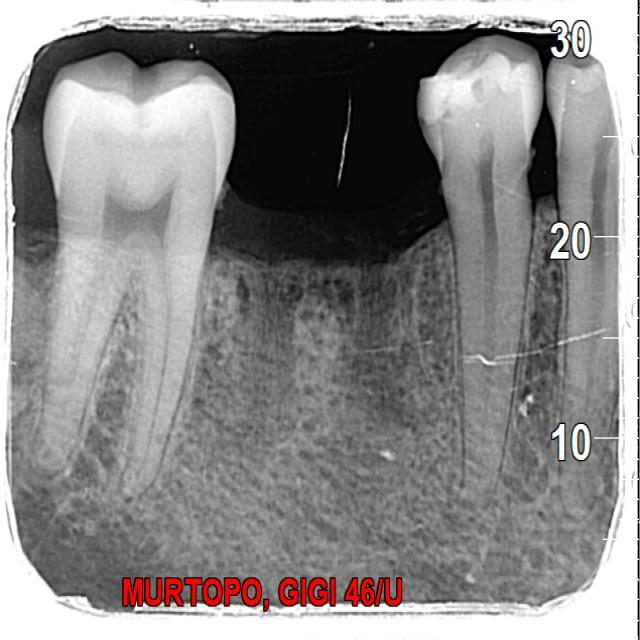individual-tooth-8tto: (33, 56, 236, 495), (417, 42, 542, 502)
